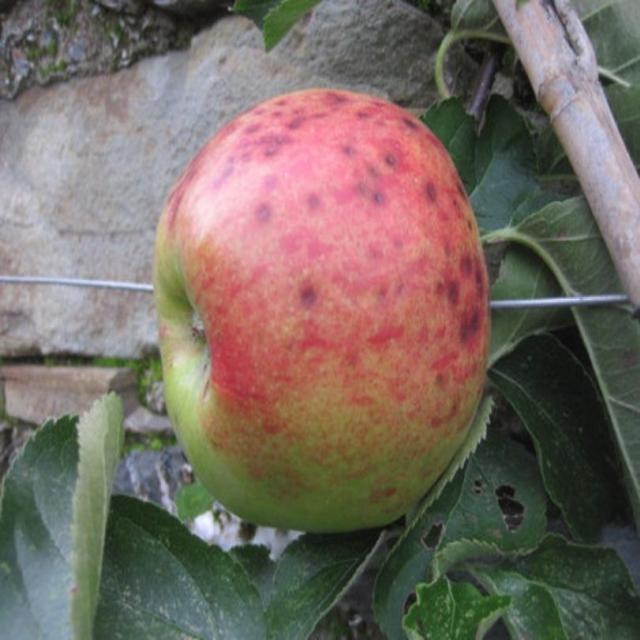Rotten Apple: (153, 60, 510, 537)
